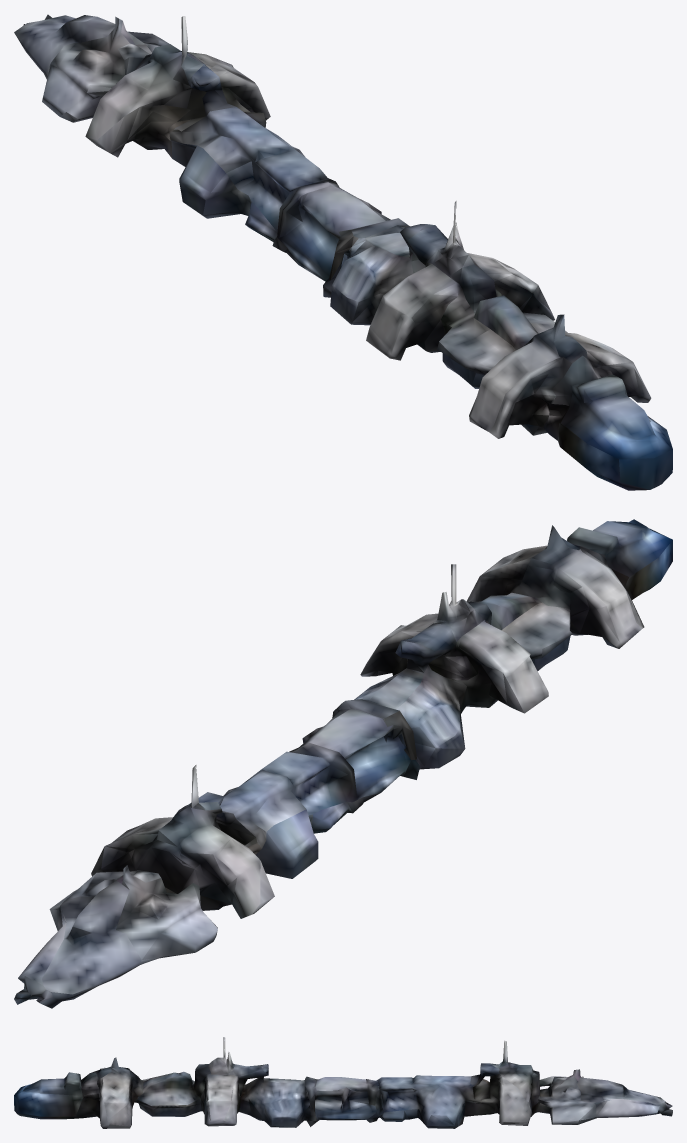
Rendered from tanker.glb.
3 renders of one model, top to bottom at view 1: azimuth 30°, elevation 25°; view 2: azimuth 150°, elevation 25°; view 3: azimuth 270°, elevation 25°, orthographic. The views are drawn at different scales.
Parts seen in each view (by area): view 1: tanker; view 2: tanker; view 3: tanker.
Boxes of the visible parts, x1,y1,x2,y2 form: tanker: (14,14,672,490); tanker: (14,519,672,1008); tanker: (14,1037,672,1128).
Bounding box in the file's own units: 0.0862 × 0.0747 × 0.5599.
Materials: 1 (1 with a texture image).
